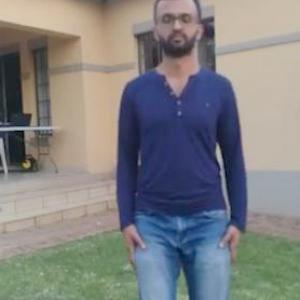follow: (119, 5, 235, 299)
